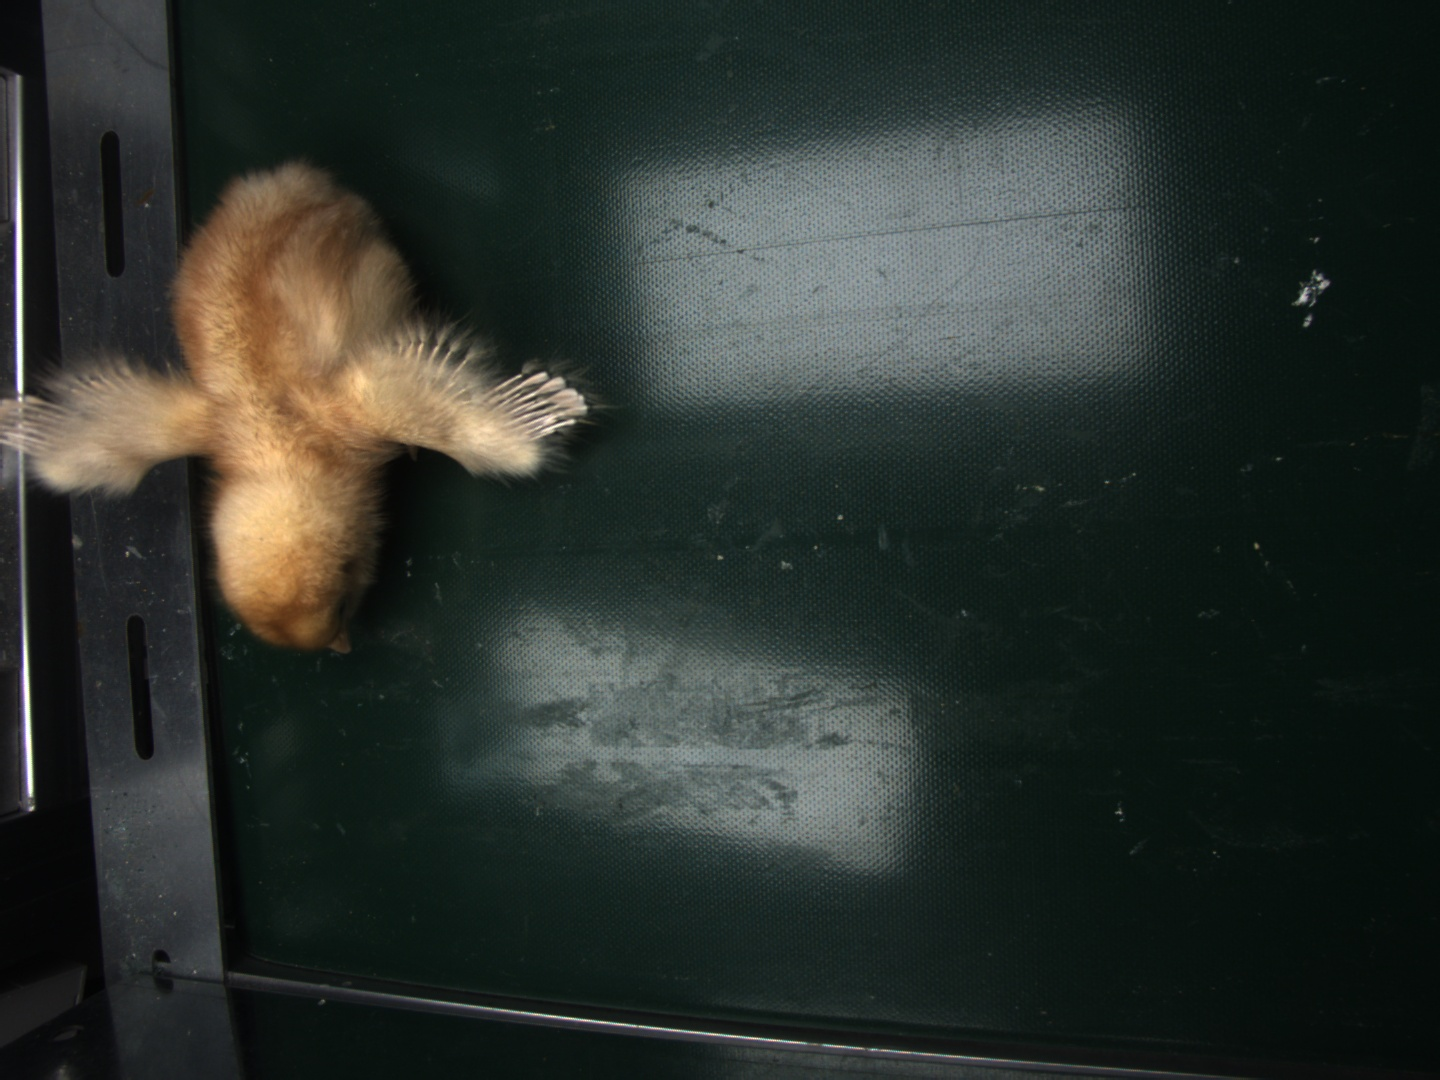female: (492, 368, 590, 439)
